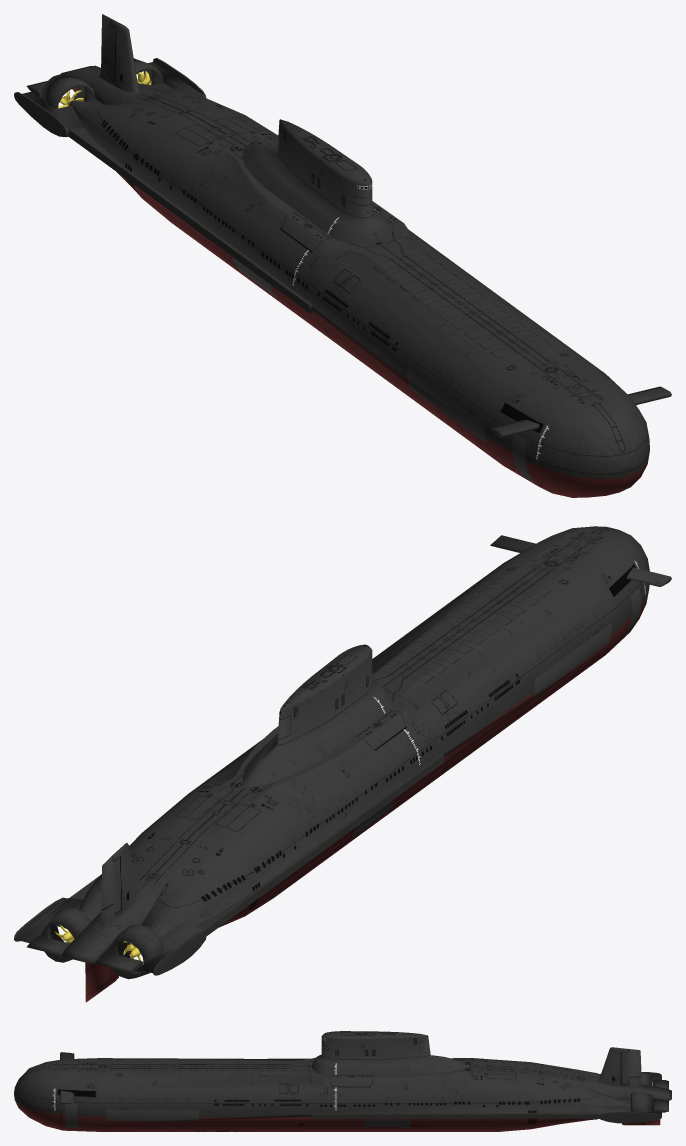
The model's file is the_project_941__akula__typhoon_submarine.glb.
3 views of the same model, one above another, from view 1: azimuth 30°, elevation 25°; view 2: azimuth 150°, elevation 25°; view 3: azimuth 270°, elevation 25° (orthographic). The views are drawn at different scales.
Visible parts, largest first — view 1: Cube; view 2: Cube; view 3: Cube.
Part boxes in pixels (bbox=[...]): Cube: bbox=[14, 14, 671, 497]; Cube: bbox=[14, 526, 671, 1002]; Cube: bbox=[14, 1031, 671, 1131].
Size of the model in its own units: 5.15 by 4.39 by 28.69.
2 materials, 1 textured.
